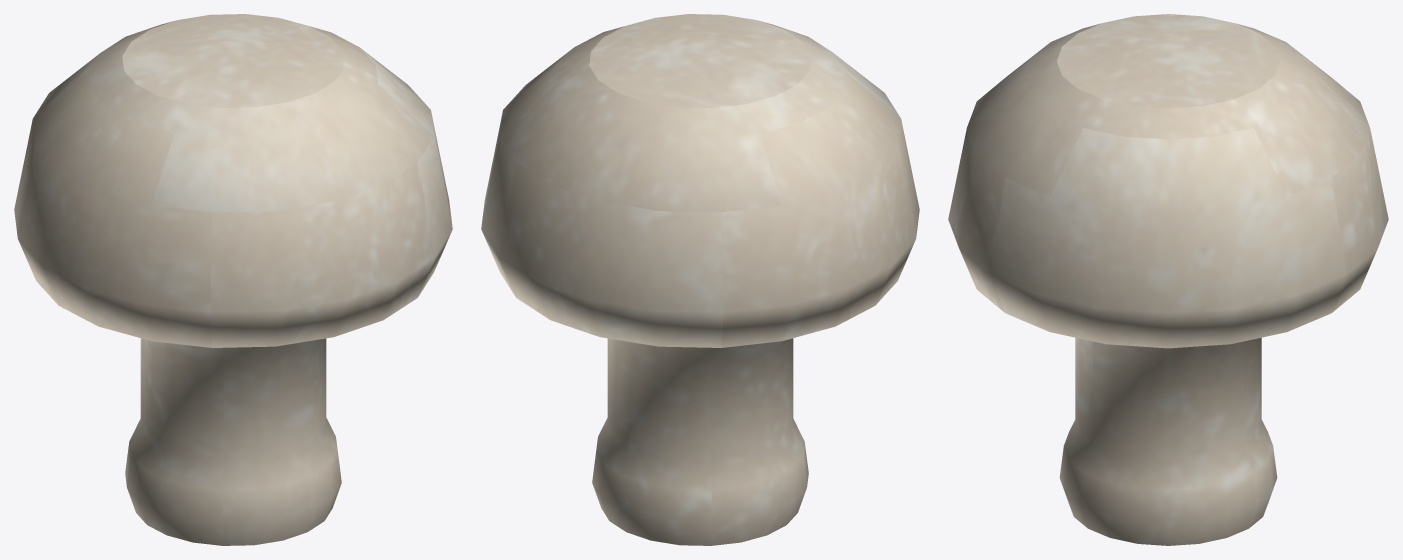
File: mushroom.fbx
The picture shows the model from 3 angles, left to right: view 1: azimuth 30°, elevation 25°; view 2: azimuth 150°, elevation 25°; view 3: azimuth 270°, elevation 25°; orthographic projection.
Parts seen in each view (by area): view 1: pCylinder1; view 2: pCylinder1; view 3: pCylinder1.
Boxes of the visible parts, box(x1,y1,x2,y2) form: pCylinder1: box(14, 14, 452, 545); pCylinder1: box(481, 14, 919, 545); pCylinder1: box(948, 14, 1388, 545).
Size of the model in its own units: 2.19 by 2.51 by 2.19.
